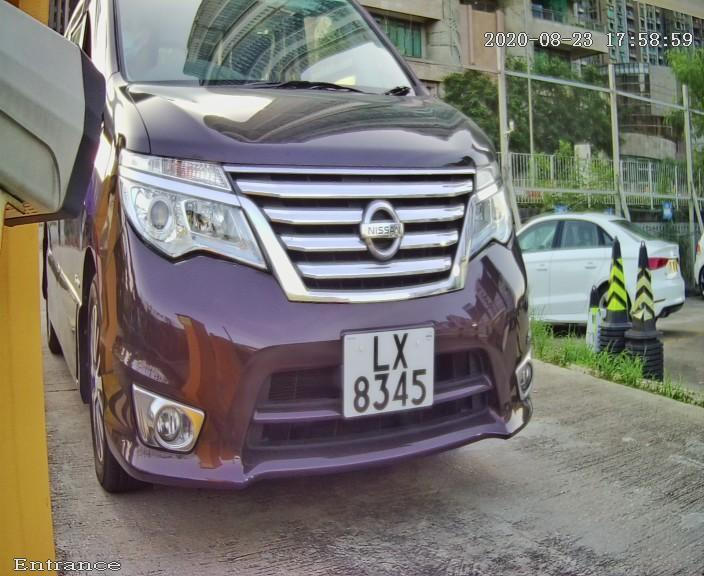License Plate: (304, 296, 479, 454)
